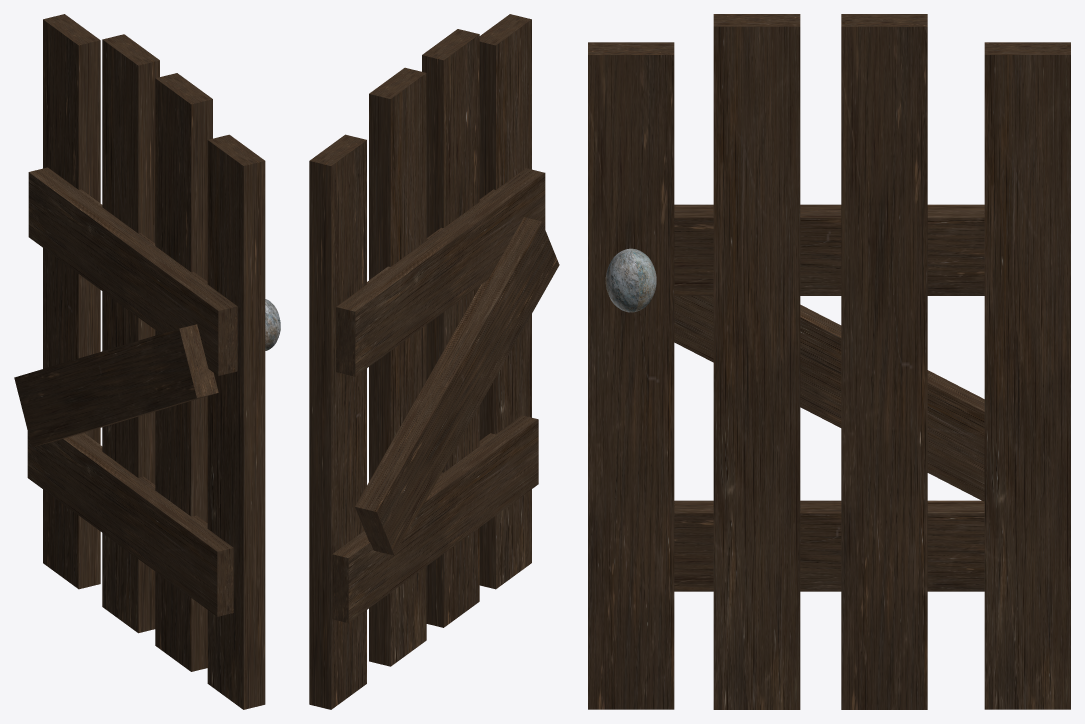
Rendered from gatev1.fbx.
3 renders of one model, left to right at view 1: azimuth 30°, elevation 25°; view 2: azimuth 150°, elevation 25°; view 3: azimuth 270°, elevation 25°, orthographic. The views are drawn at different scales.
Parts seen in each view (by area): view 1: pCube1, pCube2, pCube5, pCube4, pCube7, pCube6, pCube8, pSphere1; view 2: pCube5, pCube8, pCube4, pCube2, pCube7, pCube1, pCube6; view 3: pCube2, pCube4, pCube5, pCube1, pCube7, pCube6, pCube8, pSphere1.
Boxes of the visible parts, x1,y1,x2,y2 form: pCube1: [207, 134, 265, 709]; pCube2: [155, 73, 212, 671]; pCube5: [43, 14, 100, 589]; pCube4: [102, 34, 159, 633]; pCube7: [28, 167, 237, 375]; pCube6: [27, 431, 233, 616]; pCube8: [14, 324, 218, 446]; pSphere1: [265, 299, 280, 350]; pCube5: [309, 134, 366, 709]; pCube8: [355, 217, 559, 555]; pCube4: [369, 67, 426, 666]; pCube2: [422, 29, 479, 627]; pCube7: [336, 168, 545, 376]; pCube1: [479, 14, 531, 589]; pCube6: [332, 415, 538, 622]; pCube2: [713, 14, 800, 709]; pCube4: [841, 14, 927, 709]; pCube5: [984, 42, 1070, 709]; pCube1: [588, 42, 674, 709]; pCube7: [674, 204, 984, 295]; pCube6: [674, 500, 984, 591]; pCube8: [674, 296, 984, 501]; pSphere1: [605, 248, 656, 312].
Size of the model in its own units: 1.44 by 8.73 by 5.59.
